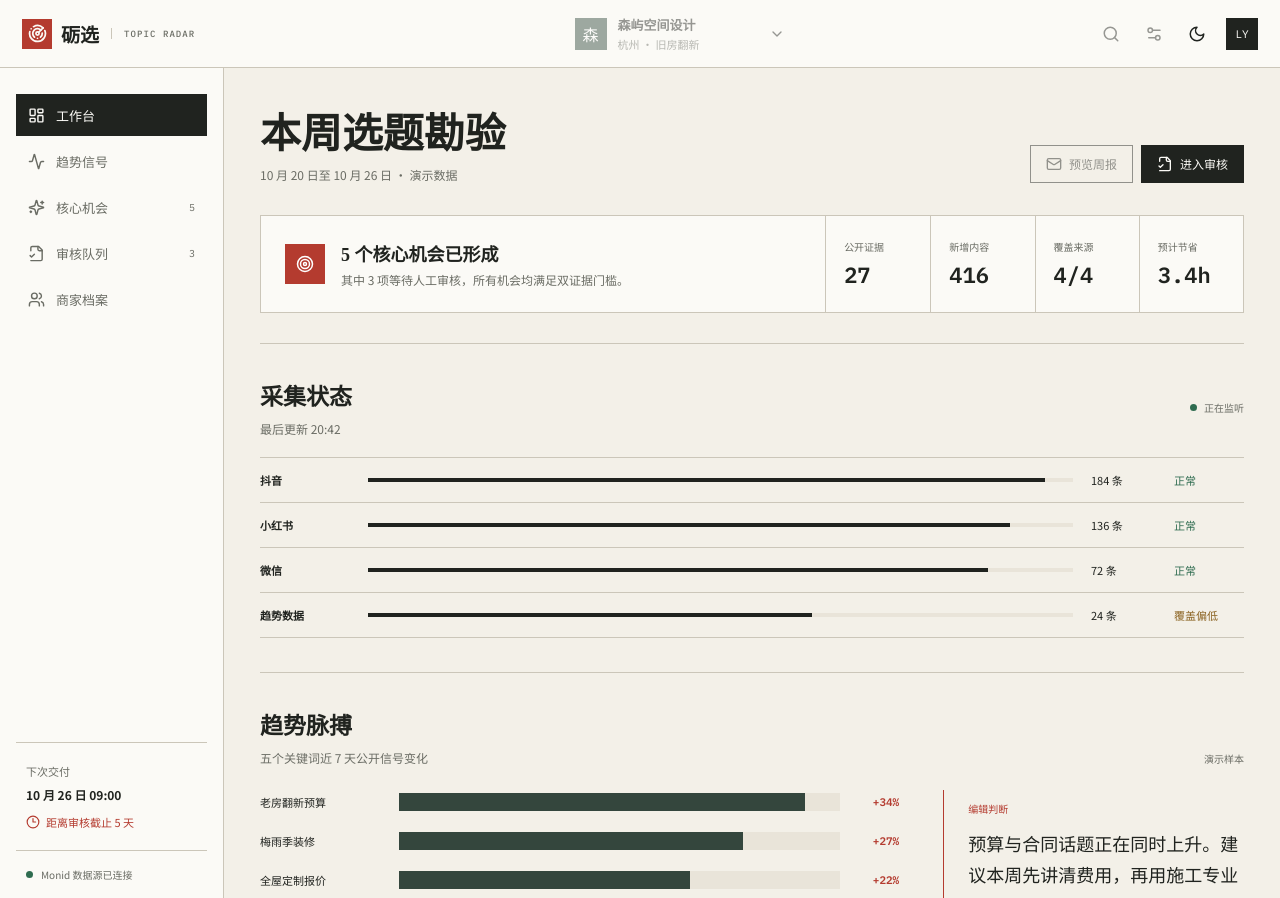
Test case: RadarDashboard › switches between light and dark themes
The width and height of the screenshot is (1280, 898).
Click the button named "切换深色模式" at coordinates (1197, 34), box [1179,16,1215,52]
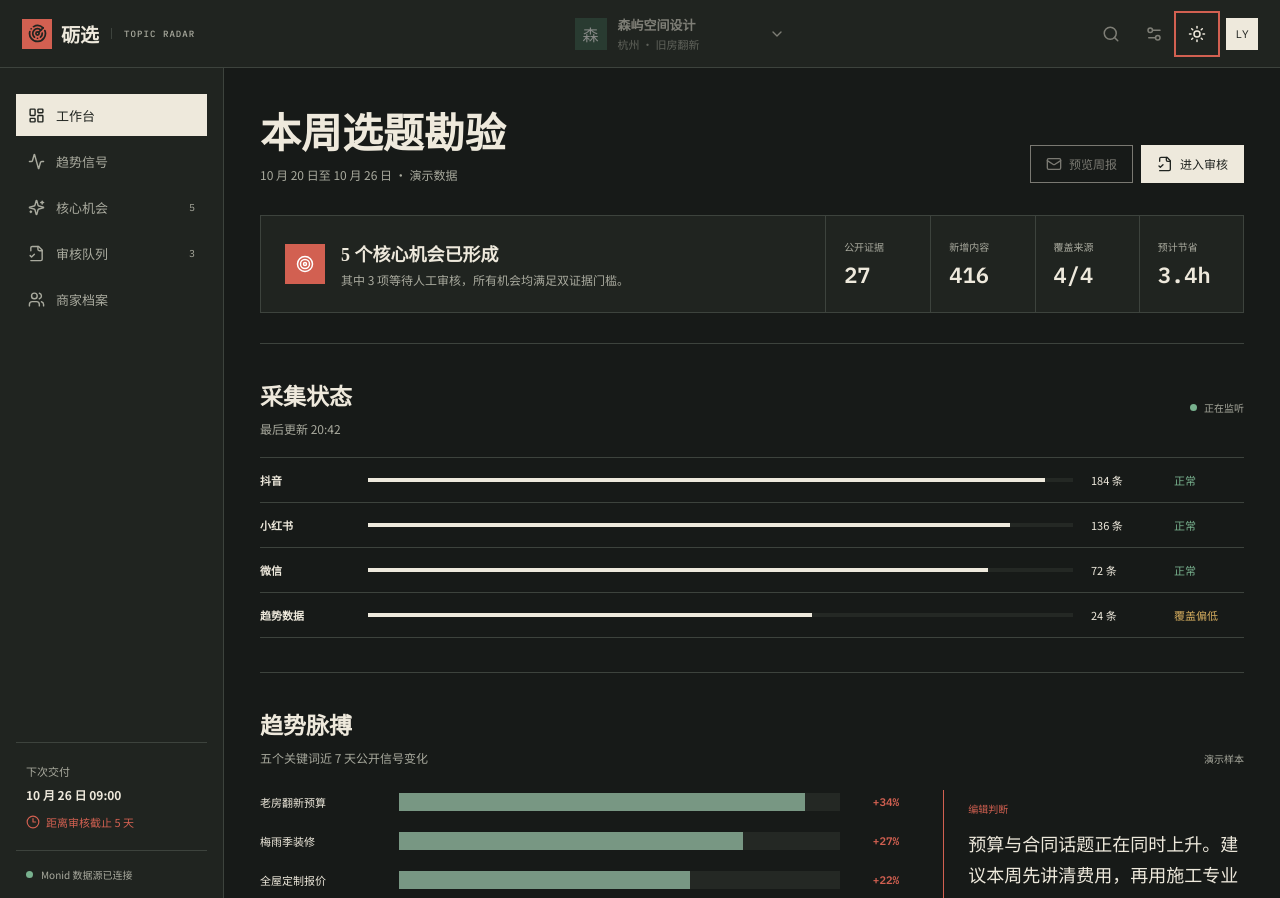
Expected: the button named "切换浅色模式" is shown, [1179,16,1215,52]
